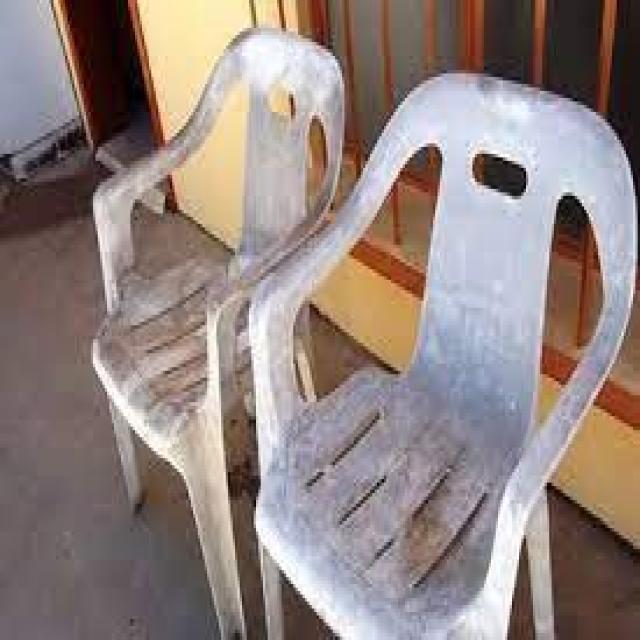chair: (246, 61, 637, 640), (88, 19, 350, 638)
